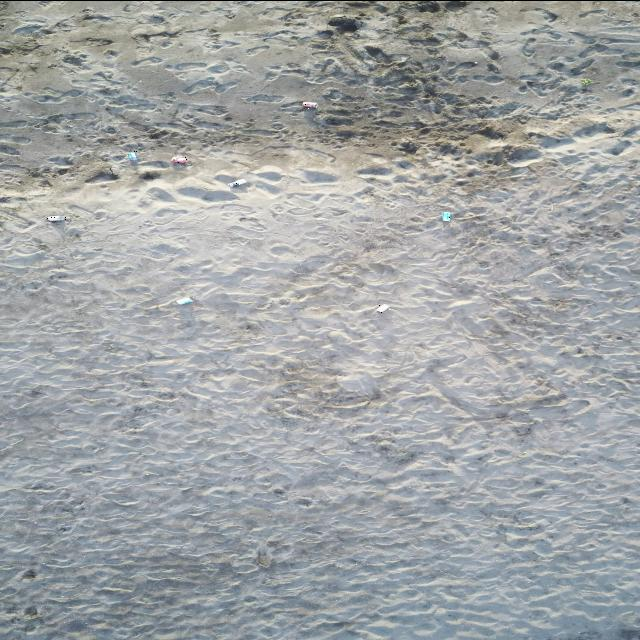Garbage: (84, 167, 118, 183), (327, 16, 360, 32), (397, 140, 417, 152), (227, 179, 246, 187), (580, 77, 592, 87), (127, 151, 136, 163), (176, 296, 191, 303), (172, 156, 187, 163), (303, 100, 316, 108), (47, 215, 67, 220), (377, 303, 388, 312), (440, 211, 451, 219)
